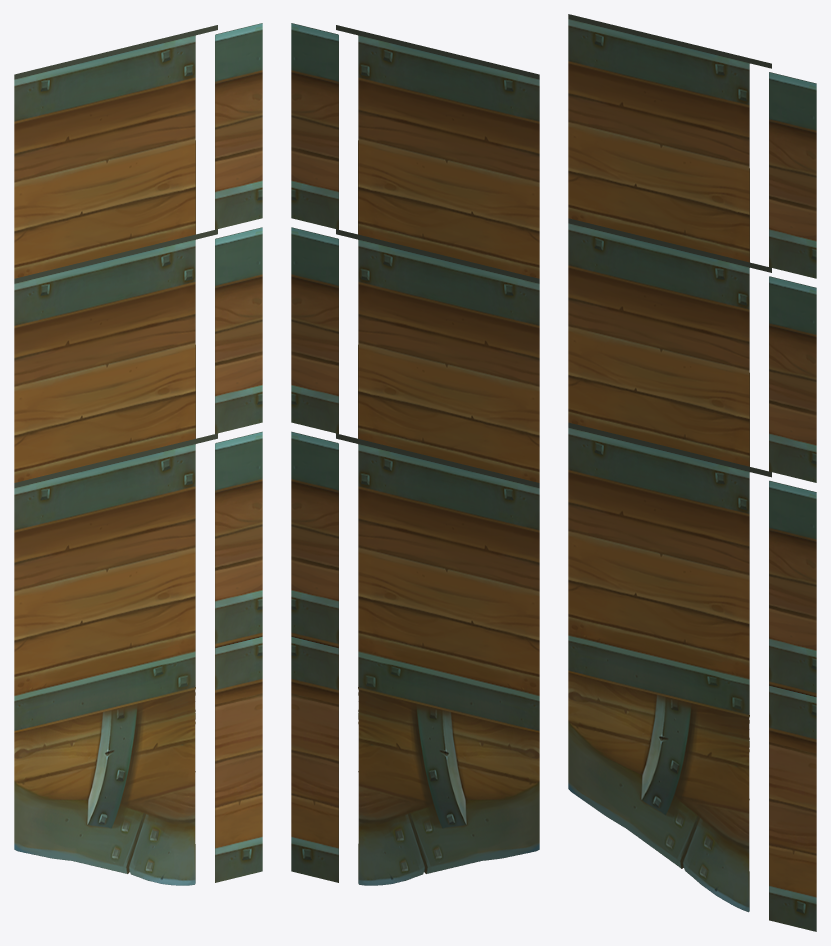
Rendered from 100402@skin.FBX.
3 views of the same model, side by side, from view 1: azimuth 30°, elevation 25°; view 2: azimuth 150°, elevation 25°; view 3: azimuth 330°, elevation 25° (orthographic).
Parts seen in each view (by area): view 1: body; view 2: body; view 3: body.
Part boxes in pixels (x1=…): body: x1=14, y1=23, x2=262, y2=885; body: x1=291, y1=23, x2=539, y2=885; body: x1=568, y1=14, x2=816, y2=931.
Bounding box in the file's own units: 40 × 132 × 2.29e-05.
